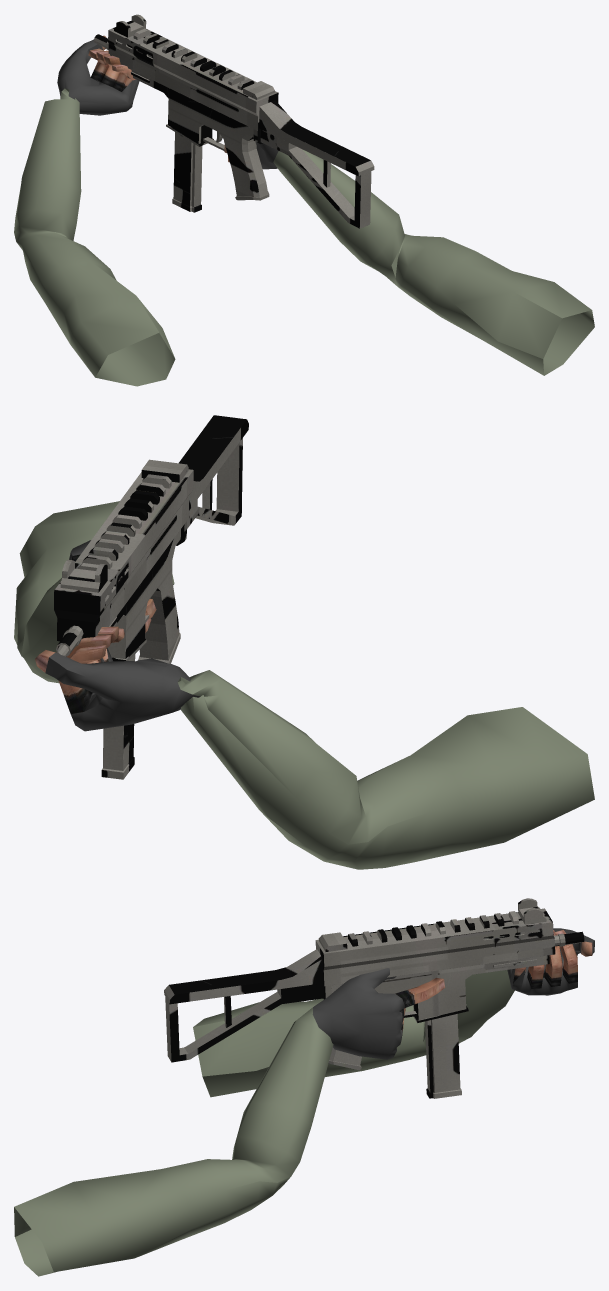
File: gun_mp7.glb
3 renders of one model, top to bottom at view 1: azimuth 30°, elevation 25°; view 2: azimuth 150°, elevation 25°; view 3: azimuth 270°, elevation 25°, orthographic. The views are drawn at different scales.
Parts seen in each view (by area): view 1: body_sleeve, body_QUAT, body_glove, mag_QUAT, body_QUATP, body_ARMS; view 2: body_sleeve, body_QUAT, body_glove, body_QUATP, body_ARMS, mag_QUAT; view 3: body_sleeve, body_QUAT, body_glove, body_ARMS, mag_QUAT, body_QUATP.
Part boxes in pixels (x1,y1,x2,y2): body_sleeve: (14, 88, 594, 386); body_QUAT: (94, 14, 374, 228); body_glove: (57, 39, 278, 169); mag_QUAT: (173, 132, 202, 209); body_QUATP: (133, 28, 254, 142); body_ARMS: (88, 35, 229, 162); body_sleeve: (14, 501, 594, 869); body_QUAT: (54, 415, 248, 663); body_glove: (45, 540, 200, 731); body_QUATP: (77, 474, 171, 570); body_ARMS: (35, 554, 156, 713); mag_QUAT: (103, 654, 135, 779); body_sleeve: (14, 970, 514, 1276); body_QUAT: (164, 898, 584, 1069); body_glove: (312, 928, 594, 1059); body_ARMS: (395, 930, 592, 1037); mag_QUAT: (425, 1014, 461, 1098); body_QUATP: (348, 911, 518, 946).
Size of the model in its own units: 76.44 by 40.12 by 81.22.
Materials: 5 (3 with a texture image).
